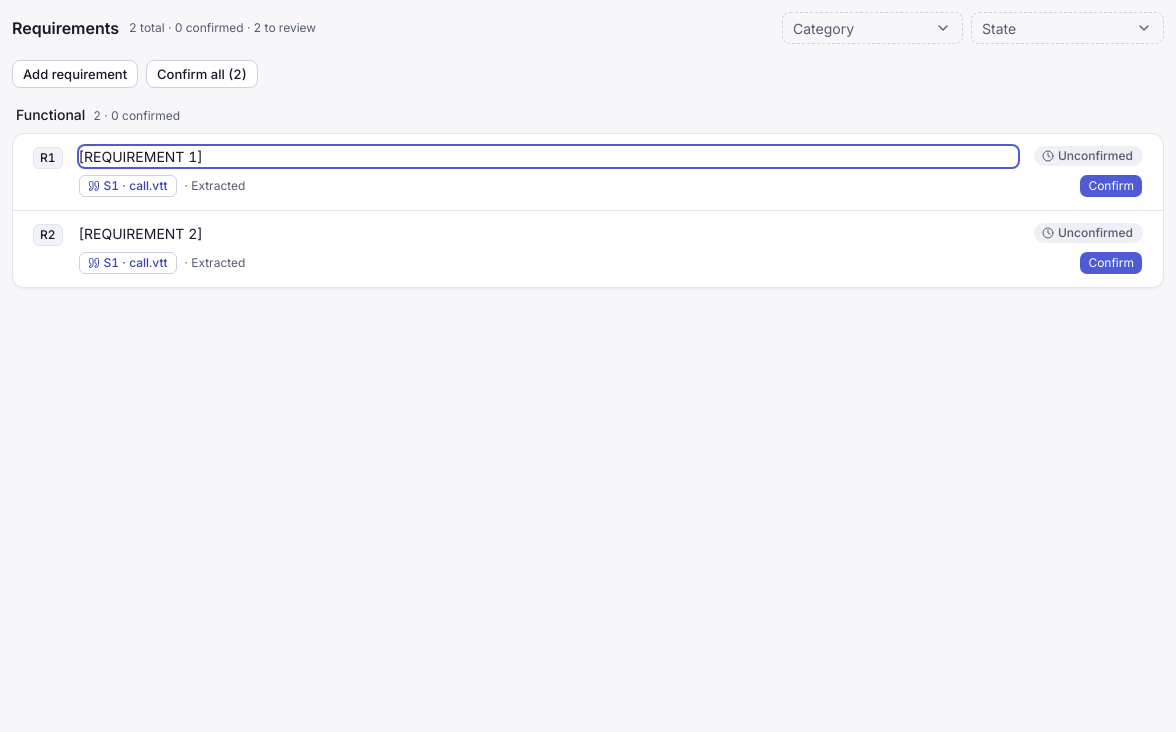
Scenario: selecting and merging › Esc with the inspector open closes it and keeps the selection
Type keys "x"
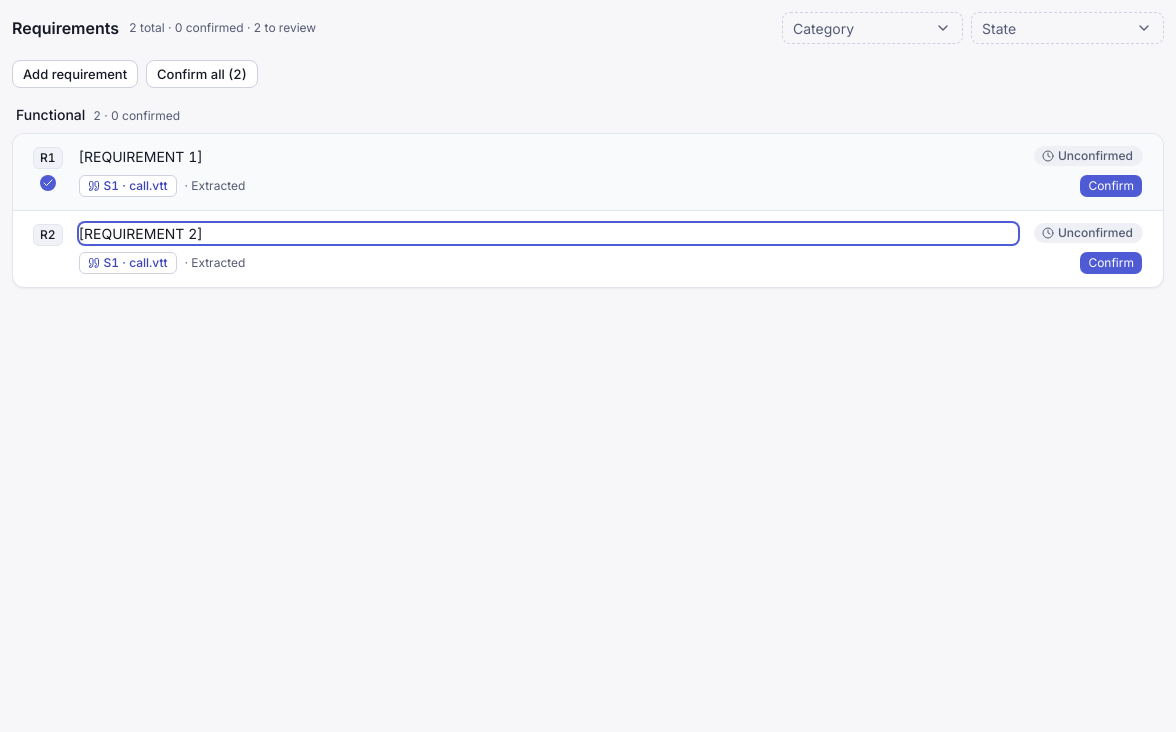
Type keys "x"
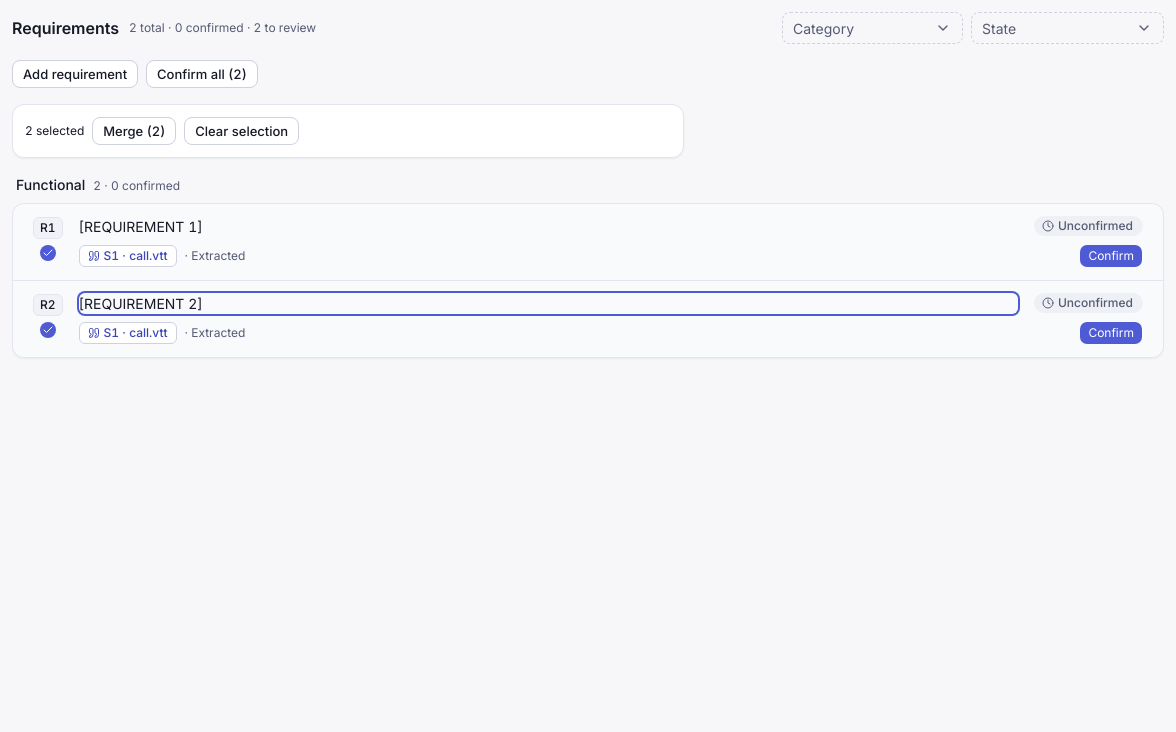
Click the button "[REQUIREMENT 1]" at [141, 226], box [79, 216, 1018, 237]
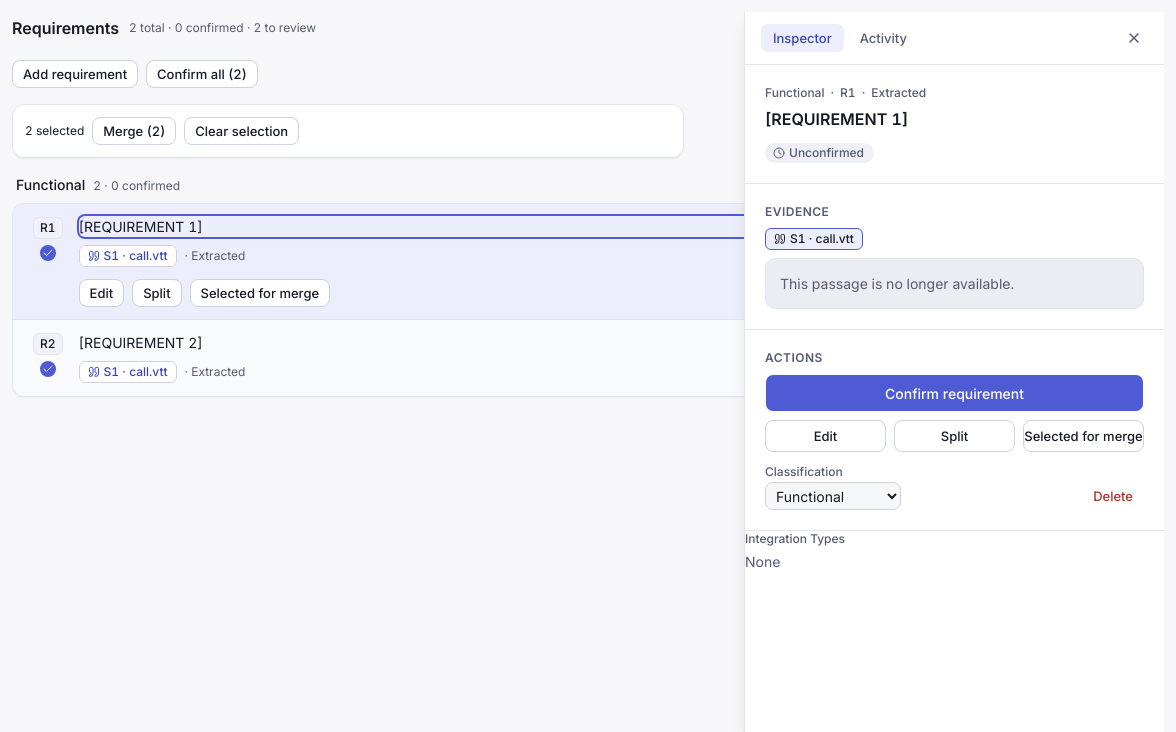
Expected: the element named "Details" is shown, [744, 12, 1164, 731]
Press Escape
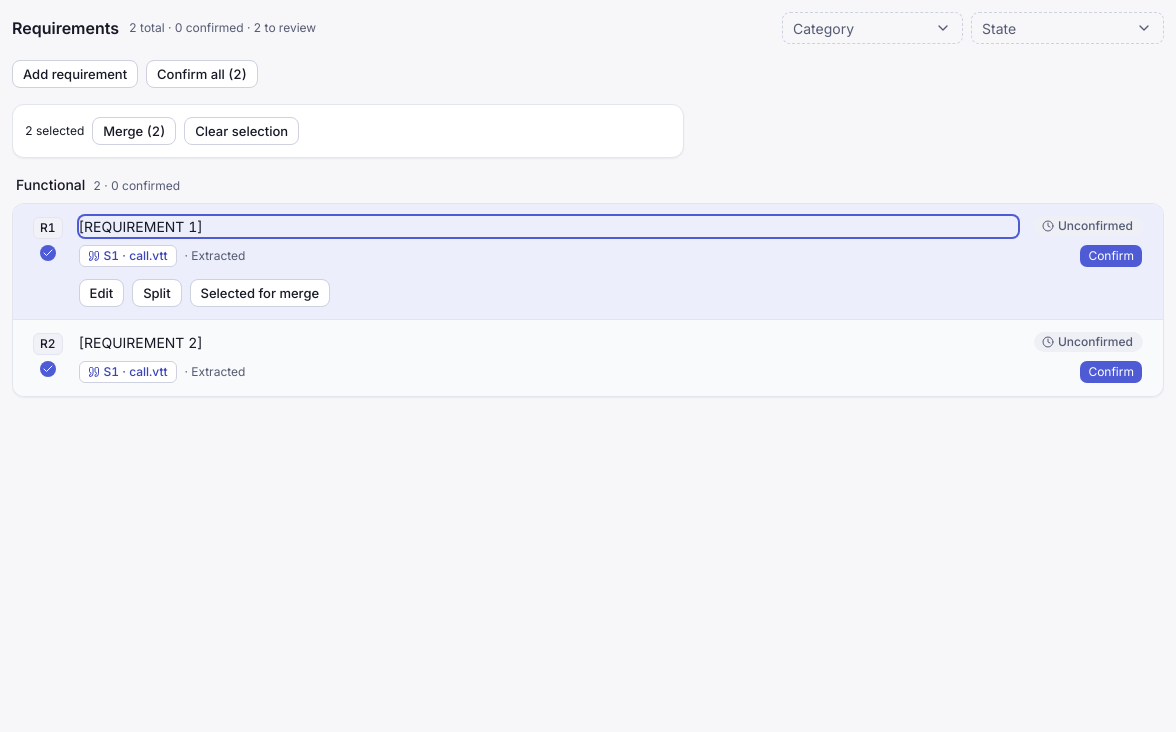
Expected: the element named "Selected Requirements" is shown, [12, 104, 684, 158]
Expected: the element "Details" is gone
